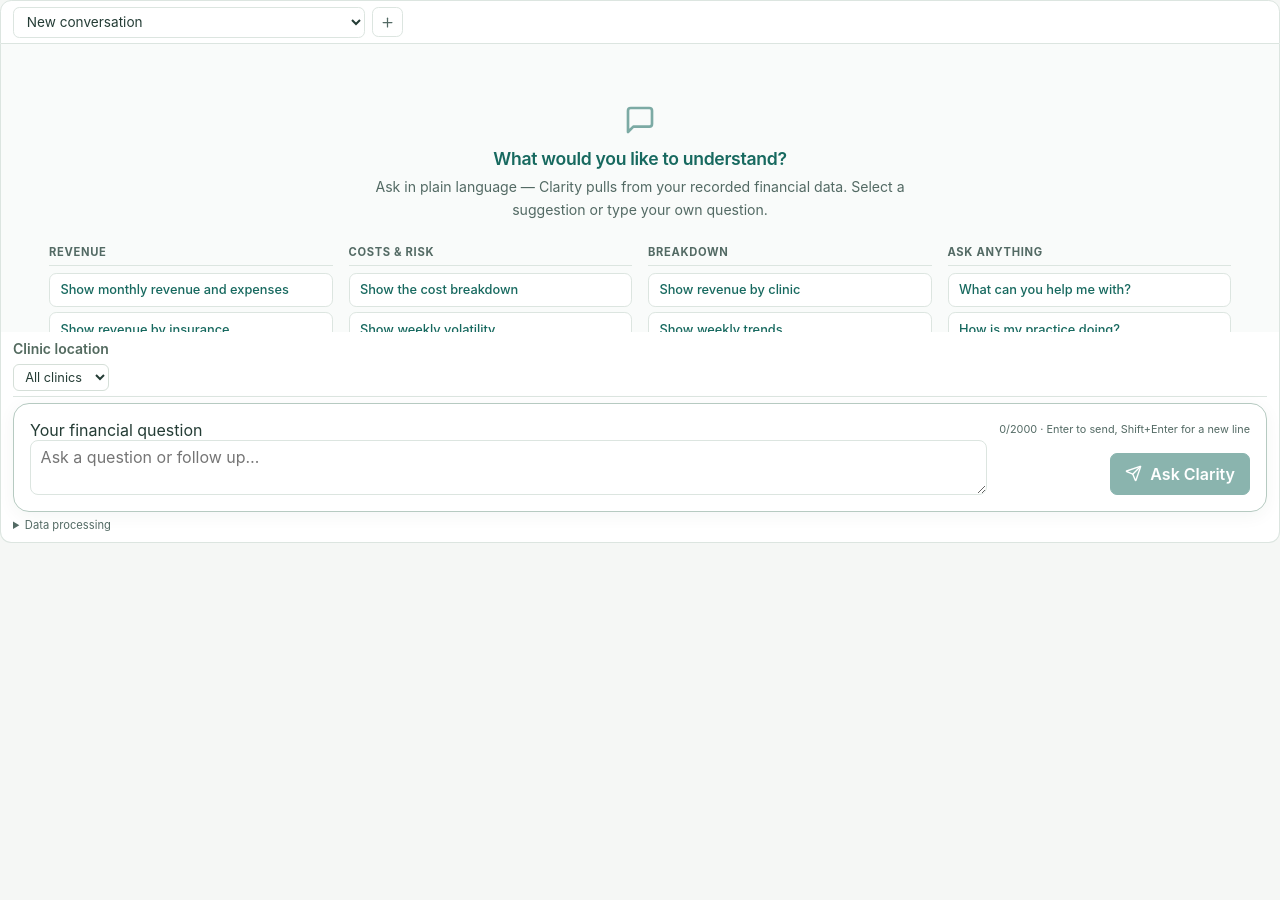
Scenario: does not replace an unsent draft when retrying an older failed turn
This screenshot has width=1280, height=900.
Type "Original failed question" into the text box labelled "Your financial question" at (509, 467), box [30, 440, 987, 495]
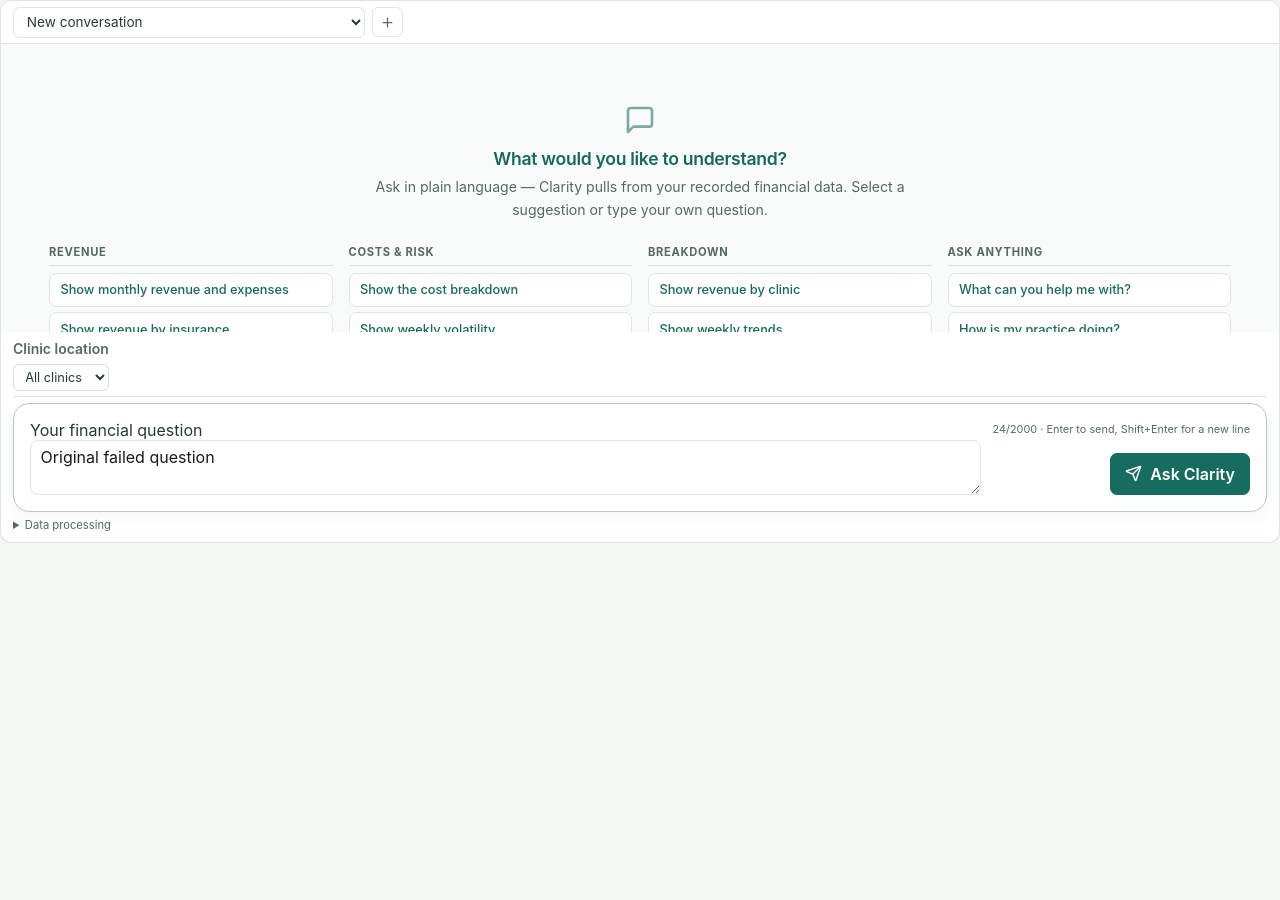
Click the button "Ask Clarity" at (1180, 474), box [1110, 452, 1250, 494]
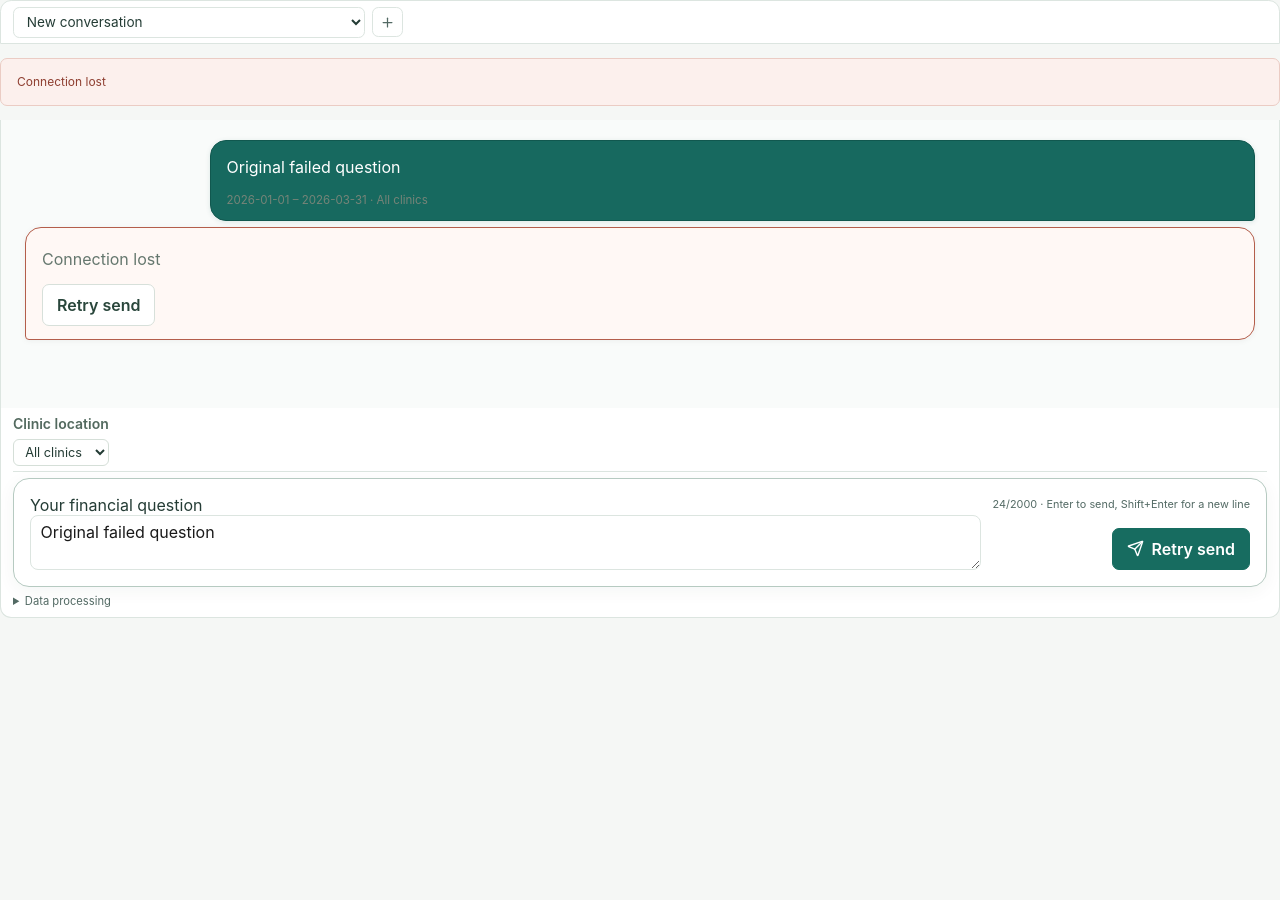
Expected: the button "Retry send" below "2026-01-01" is shown, [42, 284, 155, 326]
Replace the text in the text box labelled "Your financial question" with "Unsent draft" at (505, 542), box [30, 515, 981, 570]
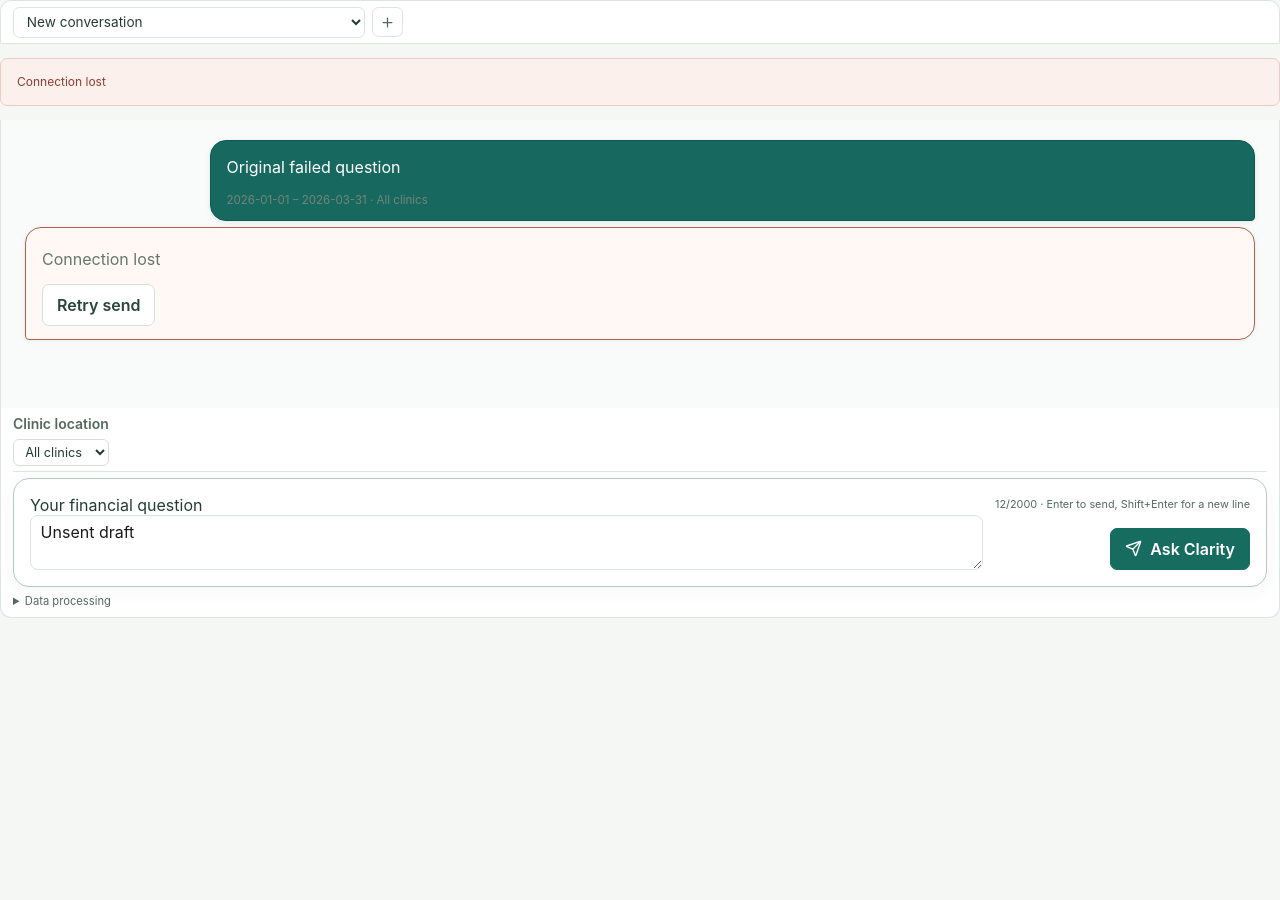
Click the button "Retry send" at (99, 305), box [42, 284, 155, 326]
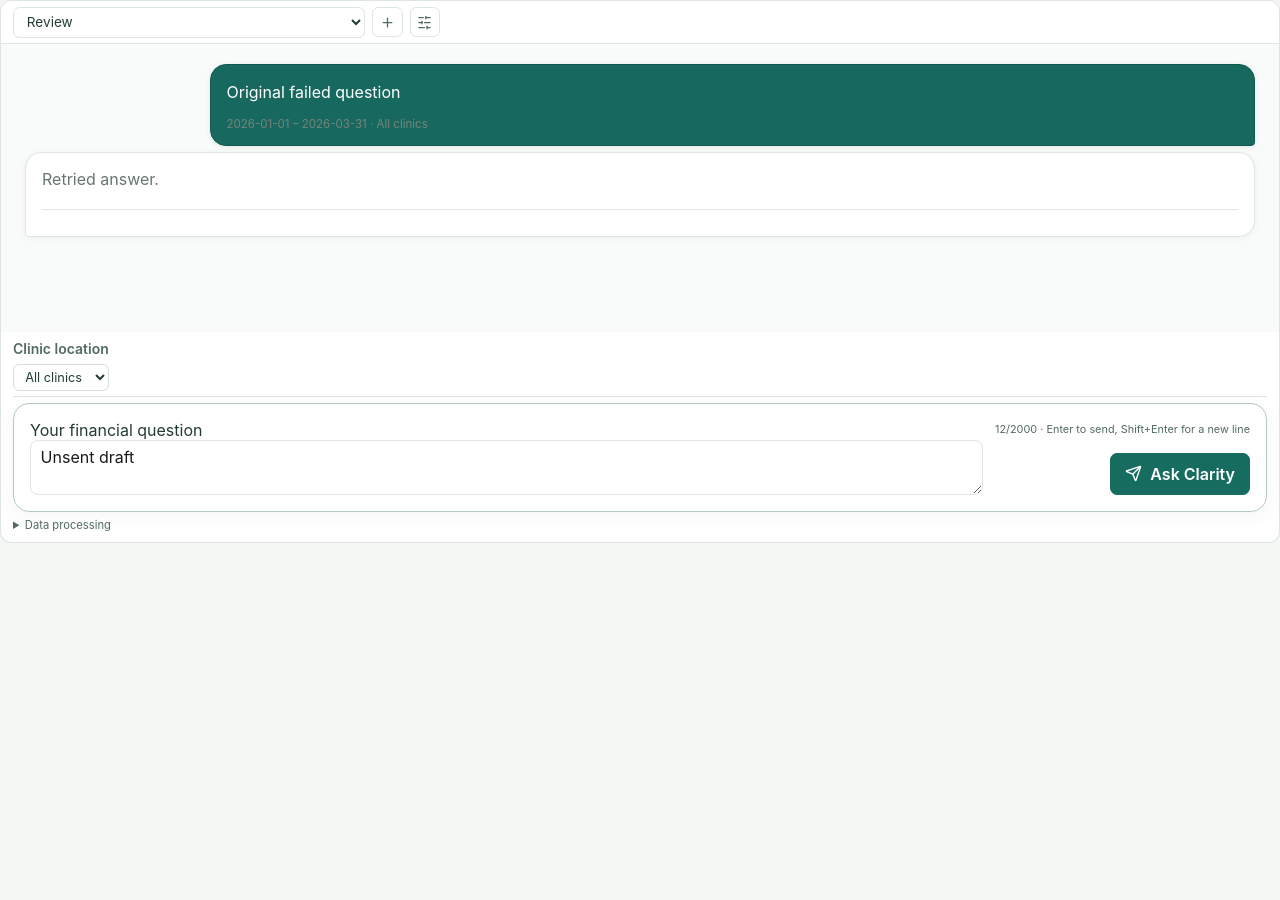
Expected: the text "Retried answer." is shown, [42, 169, 159, 189]
